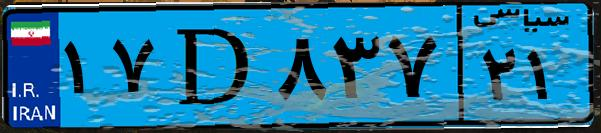1: (57, 26, 110, 100), (525, 38, 570, 115)
2: (475, 38, 525, 113)
3: (330, 28, 385, 110)
7: (385, 28, 445, 110), (110, 28, 158, 98)
8: (270, 28, 330, 110)
D: (158, 12, 270, 120)
